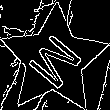M_SE: (22, 26, 87, 93)
